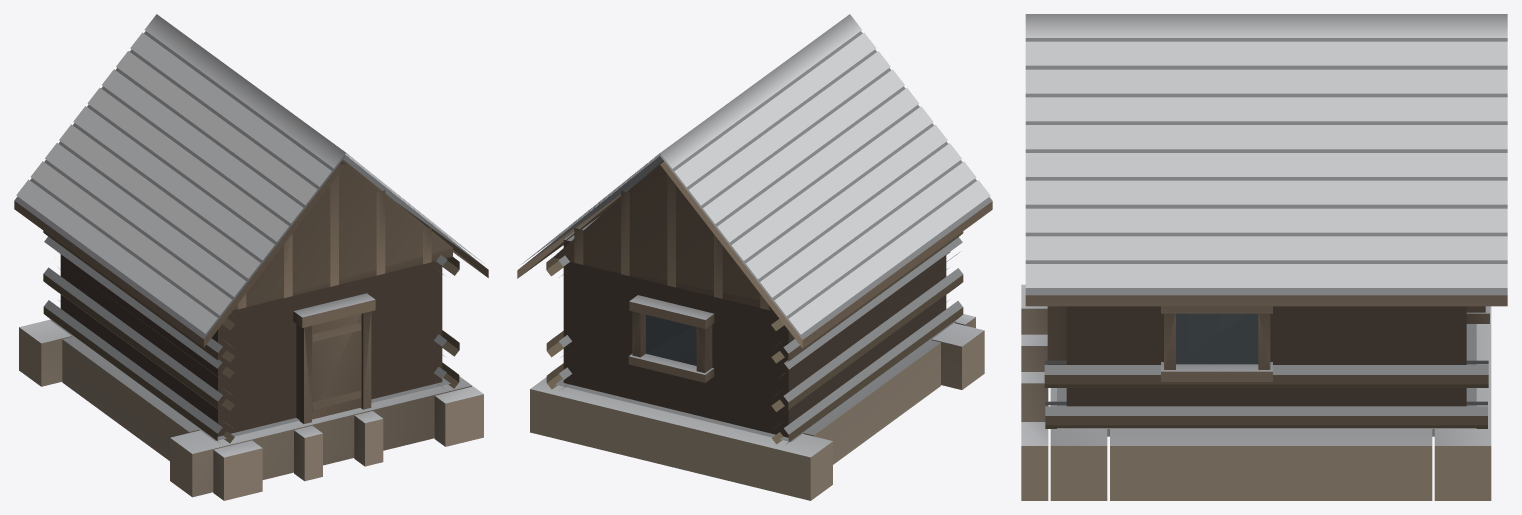
File: logcabin.lod.glb
The picture shows the model from 3 angles, left to right: view 1: azimuth 30°, elevation 25°; view 2: azimuth 150°, elevation 25°; view 3: azimuth 270°, elevation 25°; orthographic projection. The views are drawn at different scales.
Parts seen in each view (by area): view 1: logcabin; view 2: logcabin; view 3: logcabin.
Part boxes in pixels (left/top/right/bottom): logcabin: left=14, top=14, right=488, bottom=500; logcabin: left=517, top=14, right=992, bottom=500; logcabin: left=1021, top=14, right=1507, bottom=500.
Bounding box in the file's own units: 7.12 × 7.52 × 8.24.
